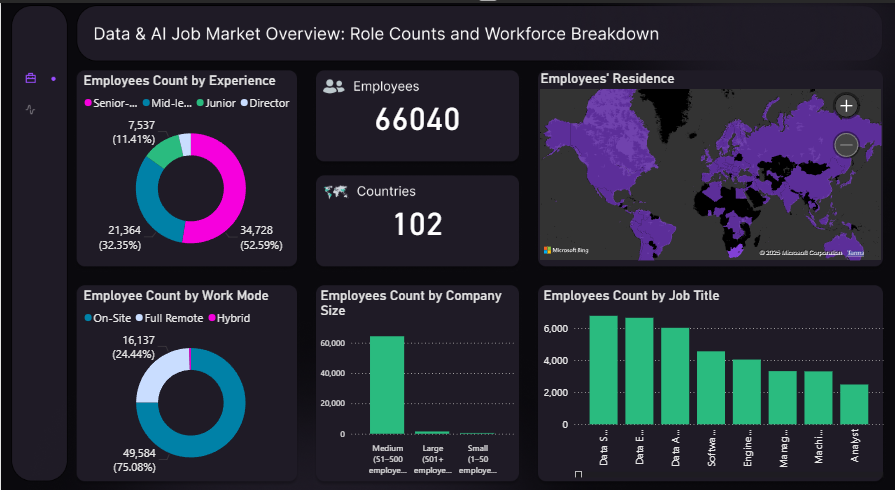

This screenshot's page, from the dashboard's own definition file:
{"tool":"powerbi","page":{"name":"Overview","canvas":[1280,720],"ordinal":0},"visuals":[{"type":"card","fields":{"Values":["salaries_cleaned.total_records"]},"box":[451.7,108.3,286.7,128.3],"z":0},{"type":"card","fields":{"Values":["salaries_cleaned.distinct_countries"]},"box":[451.7,260,286.7,125],"z":1000},{"type":"donutChart","title":"Employees Count by Experience","fields":{"Y":["salaries_cleaned.distinct_experience_lvl"],"Category":["salaries_cleaned.experience_level"]},"box":[113.3,111.7,316.7,278.3],"z":2000},{"type":"donutChart","title":"Employee Count by Work Mode","fields":{"Category":["salaries_cleaned.remote_type"],"Y":["salaries_cleaned.distinct_employees_count"]},"box":[113.3,418.3,316.7,276.7],"z":3000},{"type":"clusteredColumnChart","title":"Employees Count by Company Size","fields":{"Category":["salaries_cleaned.company_size"],"Y":["salaries_cleaned.distinct_employees_count"]},"box":[451.7,418.3,286.7,276.7],"z":4000},{"type":"clusteredColumnChart","title":"Employees Count by Job Title","fields":{"Category":["salaries_cleaned.job_title"],"Y":["salaries_cleaned.distinct_employees_count"]},"box":[770,418.6,495.7,277.1],"z":5000},{"type":"filledMap","title":"Employees'' Residence","fields":{"Category":["salaries_cleaned.employee_residence"]},"box":[765,108.3,496.7,276.7],"z":6000},{"type":"image","box":[450,111.4,51.4,41.4],"z":7000},{"type":"image","box":[450,260,58.9,45.6],"z":8000},{"type":"actionButton","box":[15,152.5,79.2,27.5],"z":9000}]}

Visuals, with their boxes on the page's 1280x720 design canvas (x1, y1, x2, y2). These are canvas units, not pixel positions in the 895x490 screenshot, which may show the page scaled, cropped or inside an application window:
card - salaries_cleaned.total_records: {"x1": 452, "y1": 108, "x2": 738, "y2": 237}
card - salaries_cleaned.distinct_countries: {"x1": 452, "y1": 260, "x2": 738, "y2": 385}
"Employees Count by Experience" donutChart: {"x1": 113, "y1": 112, "x2": 430, "y2": 390}
"Employee Count by Work Mode" donutChart: {"x1": 113, "y1": 418, "x2": 430, "y2": 695}
"Employees Count by Company Size" clusteredColumnChart: {"x1": 452, "y1": 418, "x2": 738, "y2": 695}
"Employees Count by Job Title" clusteredColumnChart: {"x1": 770, "y1": 419, "x2": 1266, "y2": 696}
"Employees'' Residence" filledMap: {"x1": 765, "y1": 108, "x2": 1262, "y2": 385}
image: {"x1": 450, "y1": 111, "x2": 501, "y2": 153}
image: {"x1": 450, "y1": 260, "x2": 509, "y2": 306}
actionButton: {"x1": 15, "y1": 152, "x2": 94, "y2": 180}
